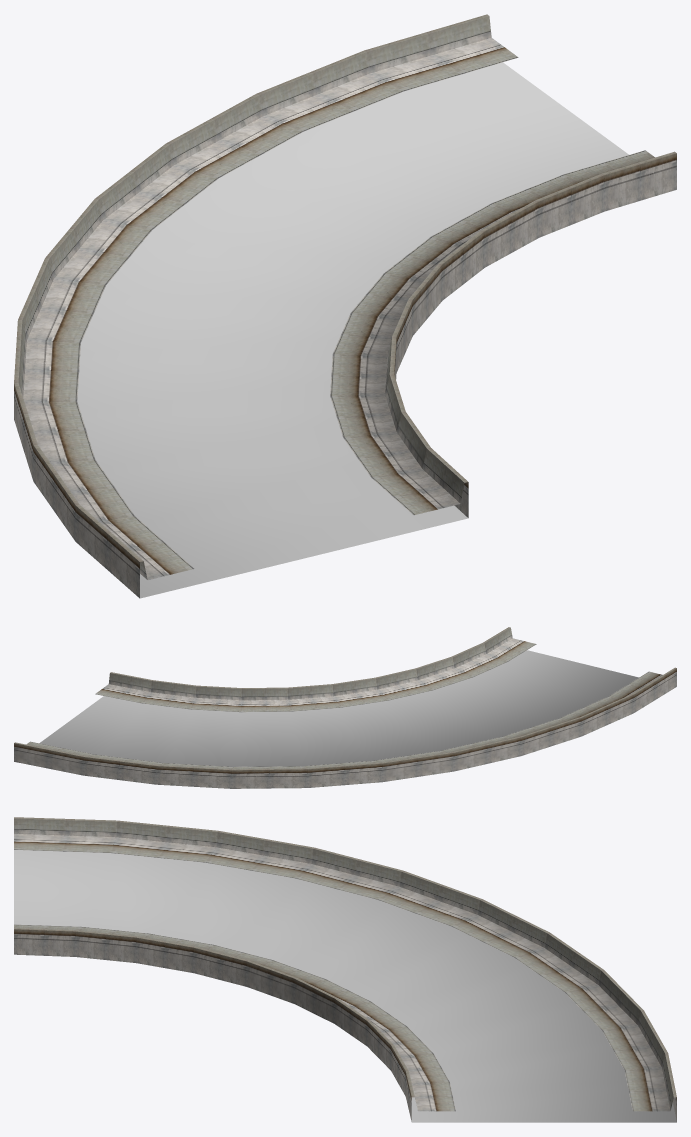
File: Bridge-LongR.fbx
The picture shows the model from 3 angles, top to bottom: view 1: azimuth 30°, elevation 25°; view 2: azimuth 150°, elevation 25°; view 3: azimuth 270°, elevation 25°; orthographic projection. The views are drawn at different scales.
Visible parts, largest first — view 1: Bridge-LongR; view 2: Bridge-LongR; view 3: Bridge-LongR.
Part boxes in pixels (left/top/right/bottom): Bridge-LongR: left=14, top=14, right=676, bottom=598; Bridge-LongR: left=14, top=627, right=676, bottom=788; Bridge-LongR: left=14, top=817, right=676, bottom=1122.
Size of the model in its own units: 2067 by 87.6 by 2067.
